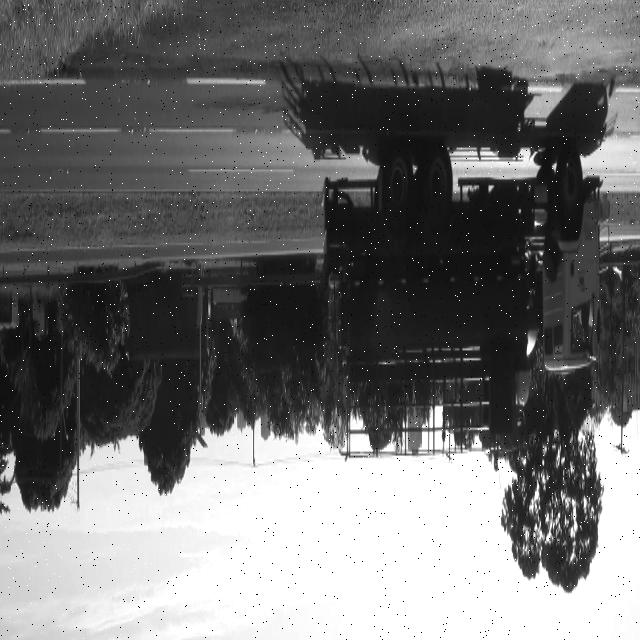-axle: (421, 136, 454, 235), (384, 142, 414, 234), (553, 139, 584, 225)
